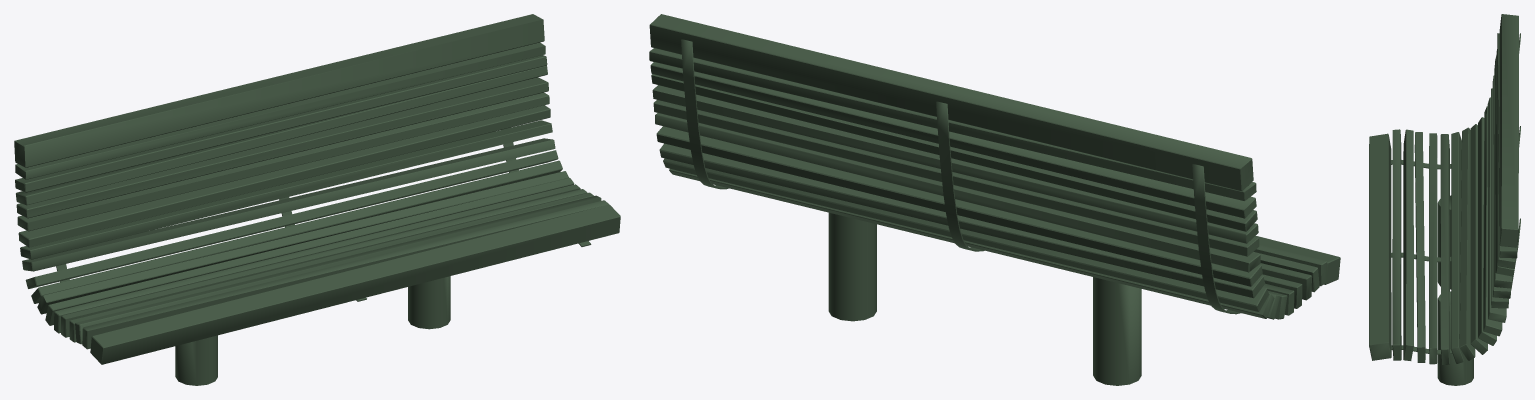
The model's file is Bench_Decimated.fbx.
3 renders of one model, left to right at view 1: azimuth 30°, elevation 25°; view 2: azimuth 150°, elevation 25°; view 3: azimuth 270°, elevation 25°, orthographic. The views are drawn at different scales.
Visible parts, largest first — view 1: Bench; view 2: Bench; view 3: Bench.
Part boxes in pixels (box(x1,y1,x2,y2)): Bench: box(14, 14, 620, 385); Bench: box(649, 14, 1340, 385); Bench: box(1369, 14, 1520, 385).
Bounding box in the file's own units: 298 × 134 × 88.8.
